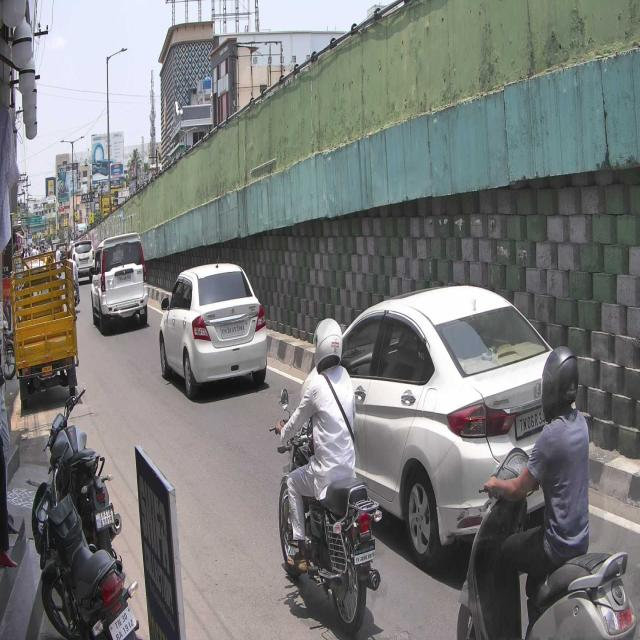single_rider: (454, 344, 640, 640), (268, 314, 382, 630)
